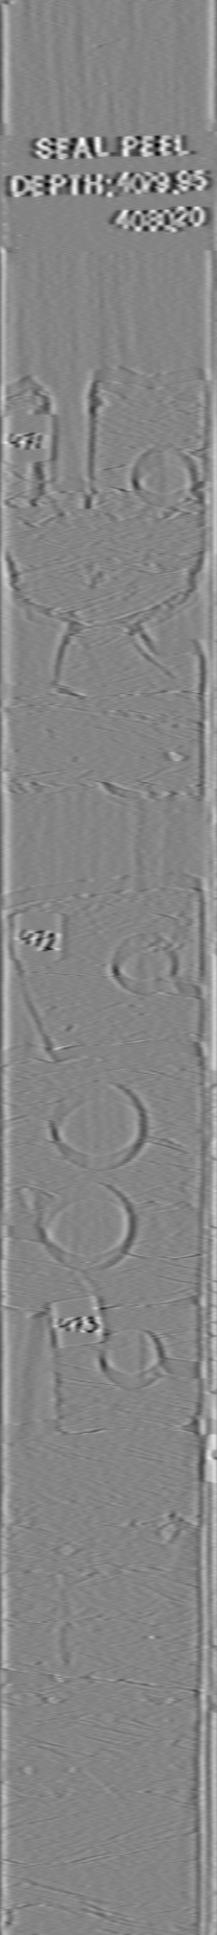hplug: (105, 921, 185, 1005), (125, 439, 199, 515), (94, 1324, 169, 1394)
scal: (47, 1076, 150, 1176), (35, 1176, 141, 1274)
vplug: (25, 380, 101, 512), (1, 1299, 69, 1448)
